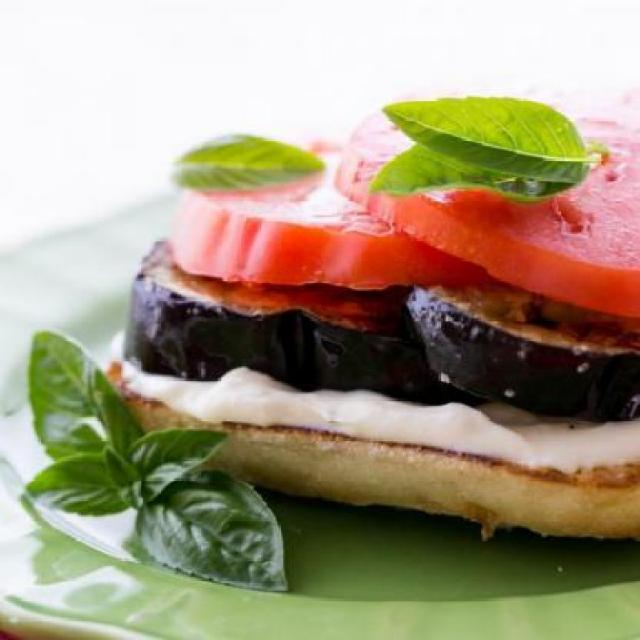eggplant: (116, 235, 638, 416)
hummus: (111, 342, 638, 476)
